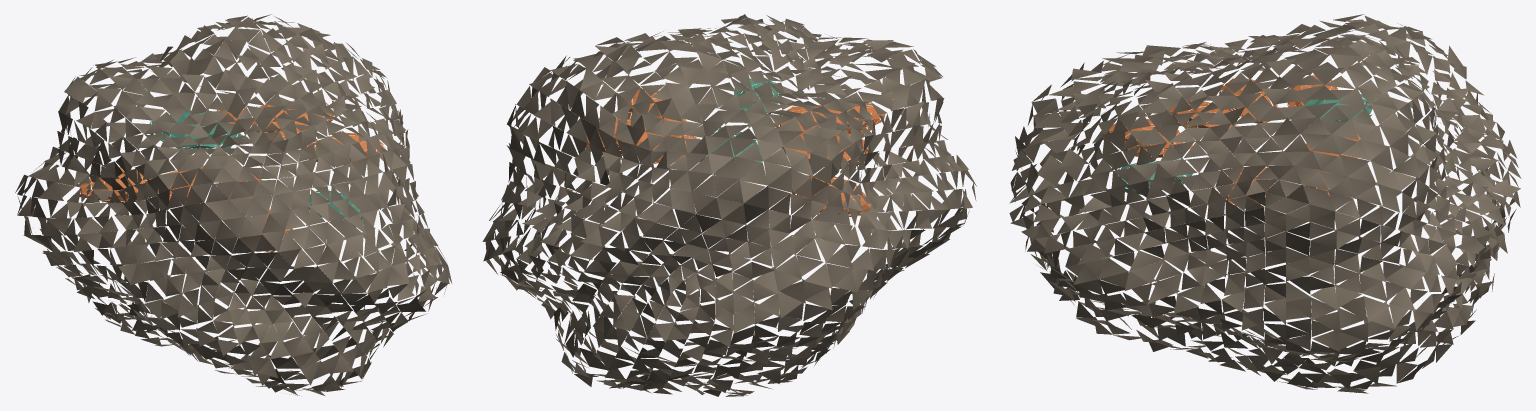
The model's file is mature-lod0.glb.
The picture shows the model from 3 angles, left to right: view 1: azimuth 30°, elevation 25°; view 2: azimuth 150°, elevation 25°; view 3: azimuth 270°, elevation 25°; orthographic projection. The views are drawn at different scales.
Parts seen in each view (by area): view 1: copper-host-rock, copper-mineral-seams; view 2: copper-host-rock, copper-mineral-seams; view 3: copper-host-rock, copper-mineral-seams.
Boxes of the visible parts, left/top/right/bottom form: copper-host-rock: left=15, top=14, right=452, bottom=395; copper-mineral-seams: left=79, top=100, right=385, bottom=252; copper-host-rock: left=482, top=14, right=976, bottom=396; copper-mineral-seams: left=584, top=77, right=885, bottom=216; copper-host-rock: left=1009, top=14, right=1521, bottom=393; copper-mineral-seams: left=1107, top=75, right=1374, bottom=209.
Bounding box in the file's own units: 3.46 × 2.86 × 4.11.
